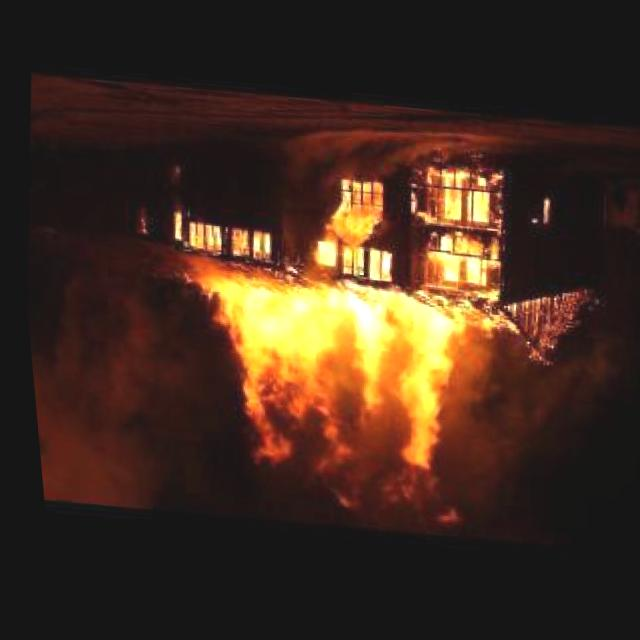Fire: (179, 272, 505, 497), (304, 160, 504, 294), (165, 213, 268, 266)
